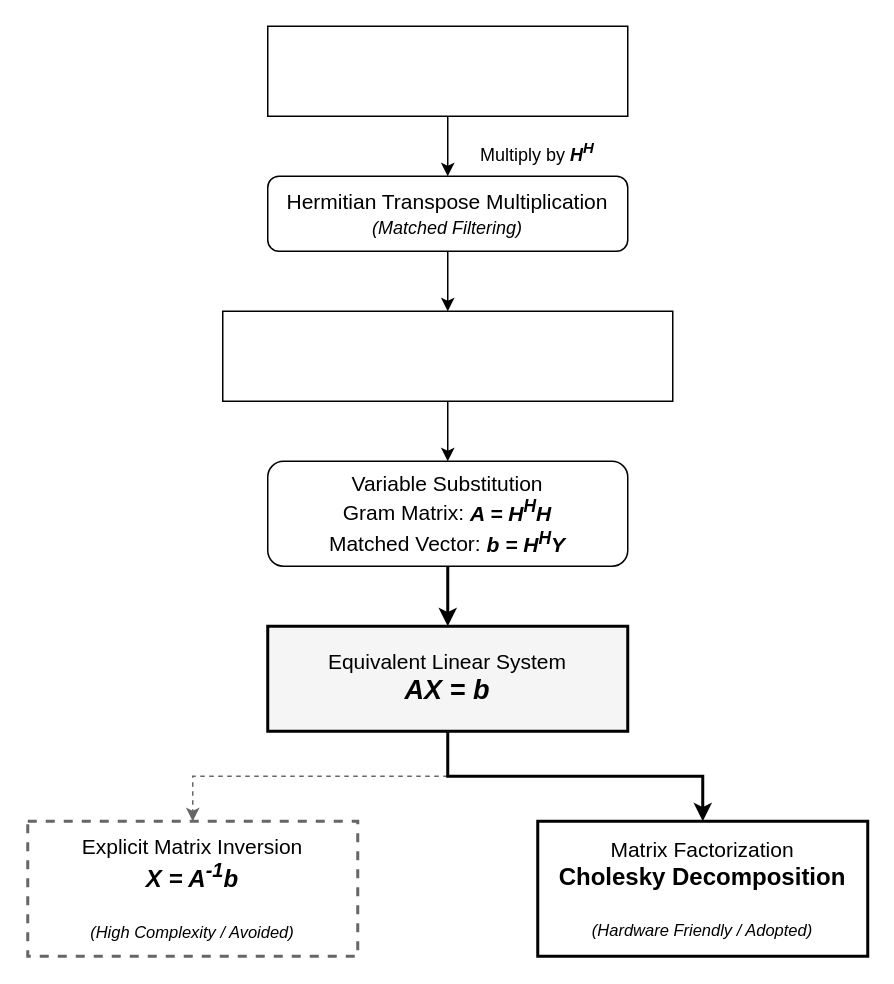
Some shapes in this 894 by 984 pixel diagram are drawn without their labels. Each missing label, with the centre of its shape:
"Normal Equations H H Y = H H HX + H H N" belongs at pixel 447 355.
"Received Signal Model Y = HX + N" belongs at pixel 447 70.
